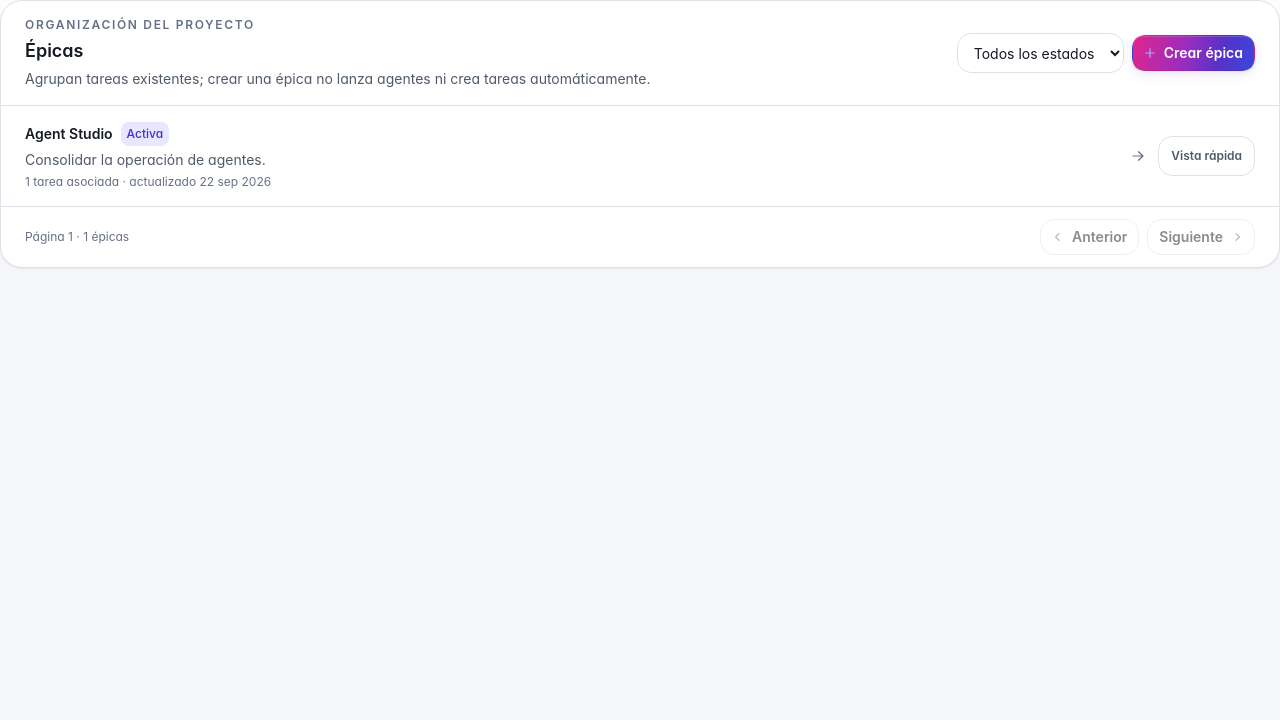
Scenario: project epics panel › uses the backend next_cursor to load the next safe task page
The image size is (1280, 720).
Click the button with aria-label "Abrir vista rápida de épica: Agent Studio". click: (1207, 156)
box: [1158, 136, 1255, 176]
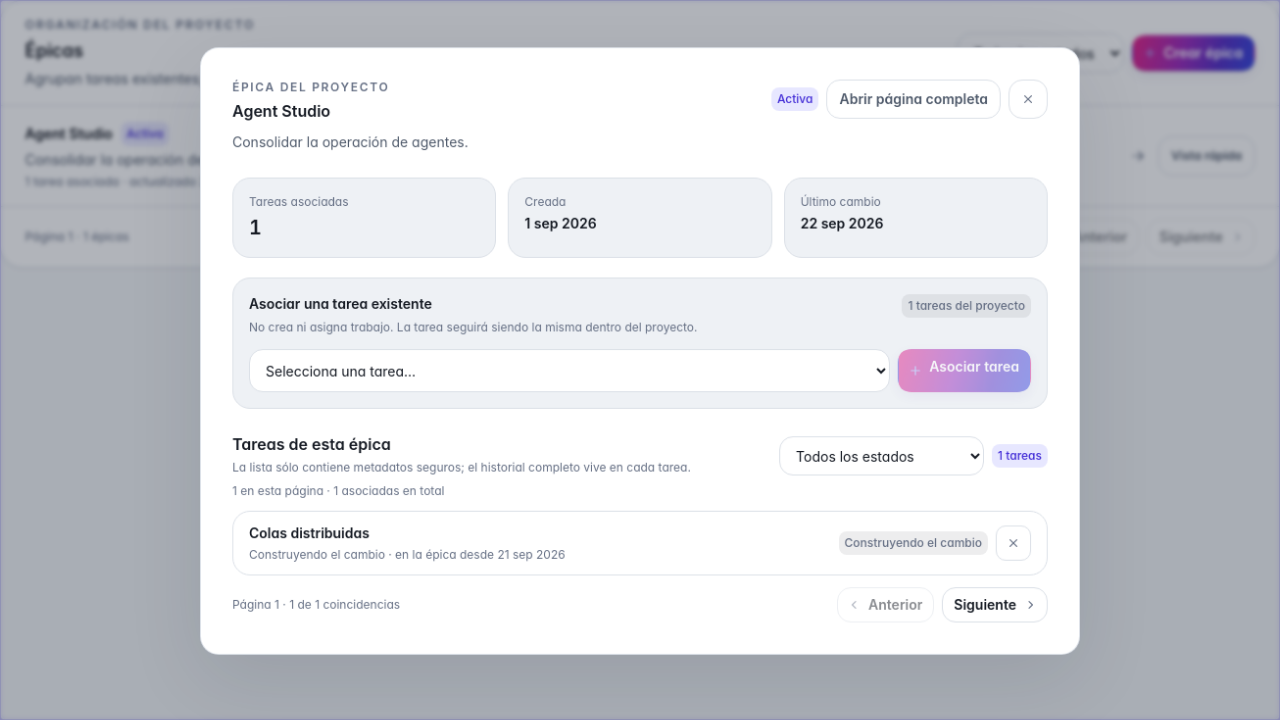
Check: the link "Colas distribuidas" is shown, box [249, 524, 370, 541]
Check: the button "Siguiente" is shown
Click the button "Siguiente". click: (995, 604)
box: [942, 587, 1048, 622]
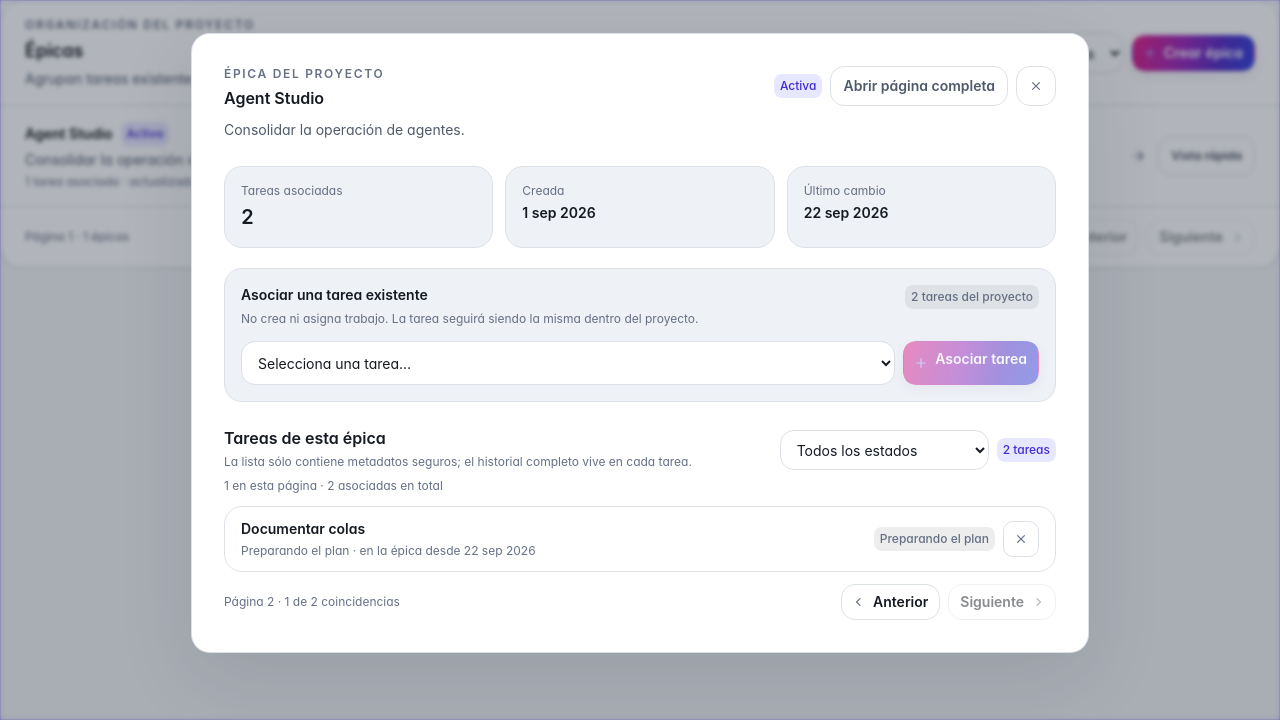
Check: the link "Documentar colas" is shown, box [241, 520, 365, 536]
